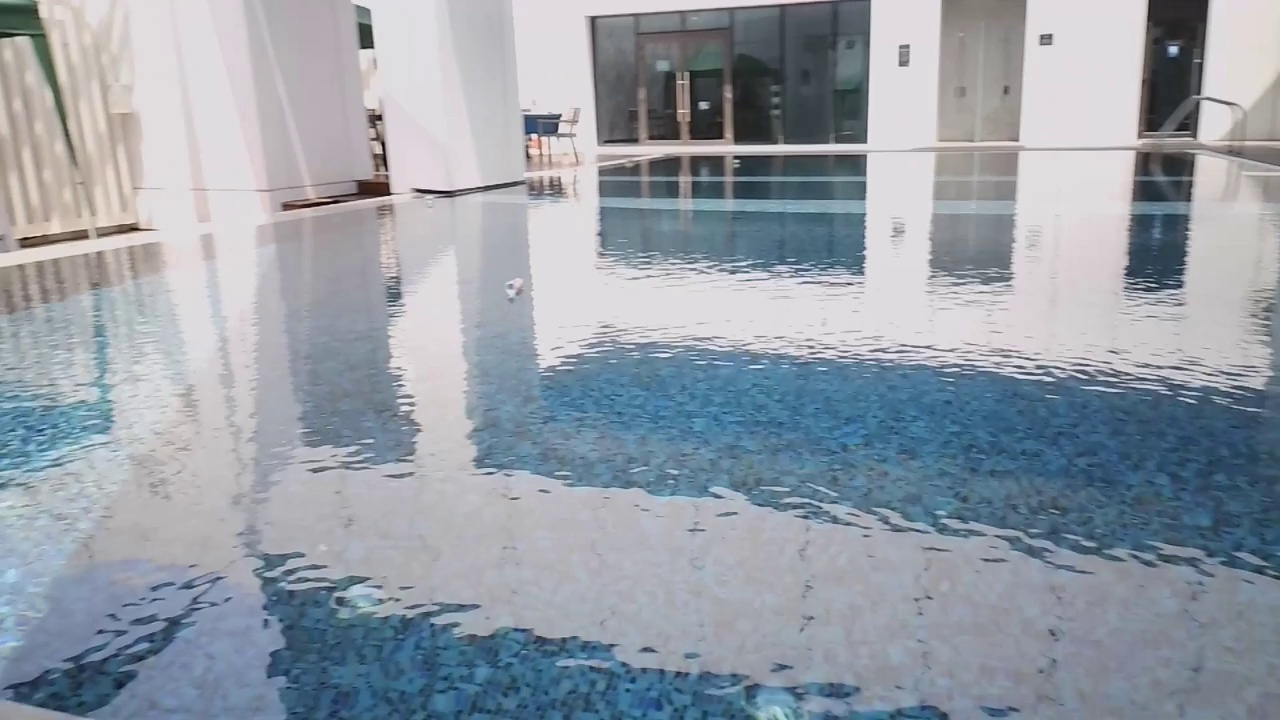debris: (499, 269, 526, 297), (622, 155, 638, 171), (728, 152, 742, 162), (424, 191, 433, 204)
